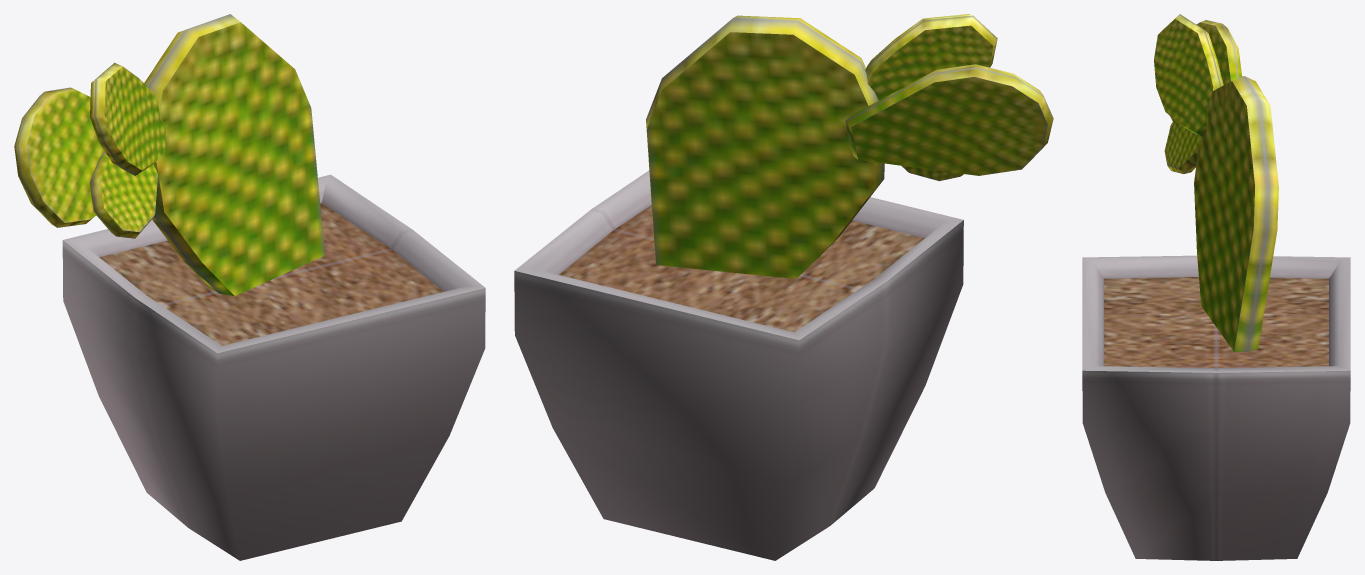
The model's file is TuShuGuan_01_xianrenzhang_01.FBX.
3 renders of one model, left to right at view 1: azimuth 30°, elevation 25°; view 2: azimuth 150°, elevation 25°; view 3: azimuth 270°, elevation 25°, orthographic. The views are drawn at different scales.
Visible parts, largest first — view 1: TuShuGuan_01_xianrenzhang_01; view 2: TuShuGuan_01_xianrenzhang_01; view 3: TuShuGuan_01_xianrenzhang_01.
Boxes of the visible parts, x1,y1,x2,y2 form: TuShuGuan_01_xianrenzhang_01: [14, 14, 485, 560]; TuShuGuan_01_xianrenzhang_01: [514, 14, 1053, 560]; TuShuGuan_01_xianrenzhang_01: [1082, 14, 1350, 560].
Bounding box in the file's own units: 72.93 × 82.98 × 47.31.
